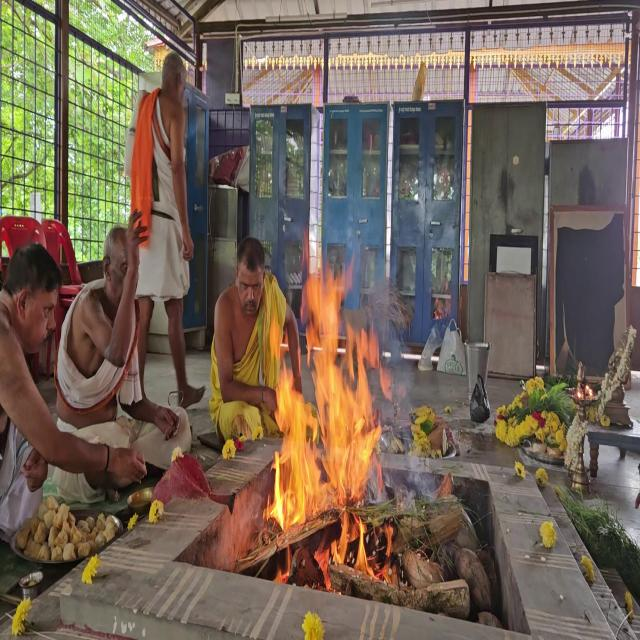fire: (247, 250, 398, 610)
